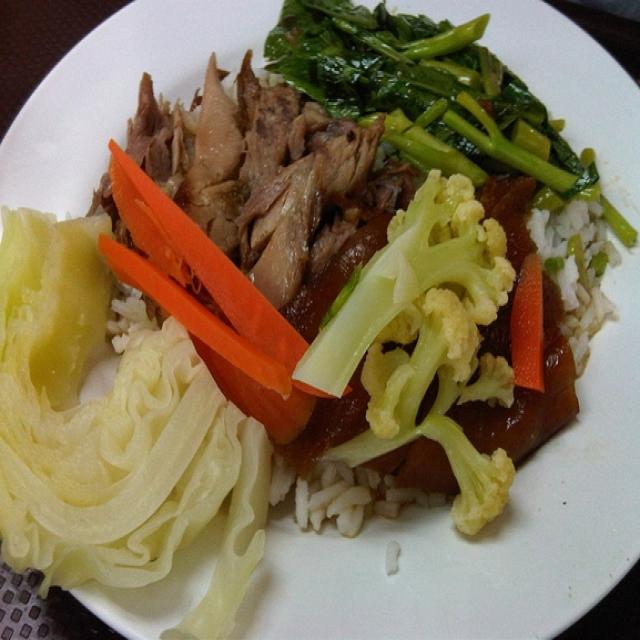猪肉菜式: (13, 18, 608, 621)
